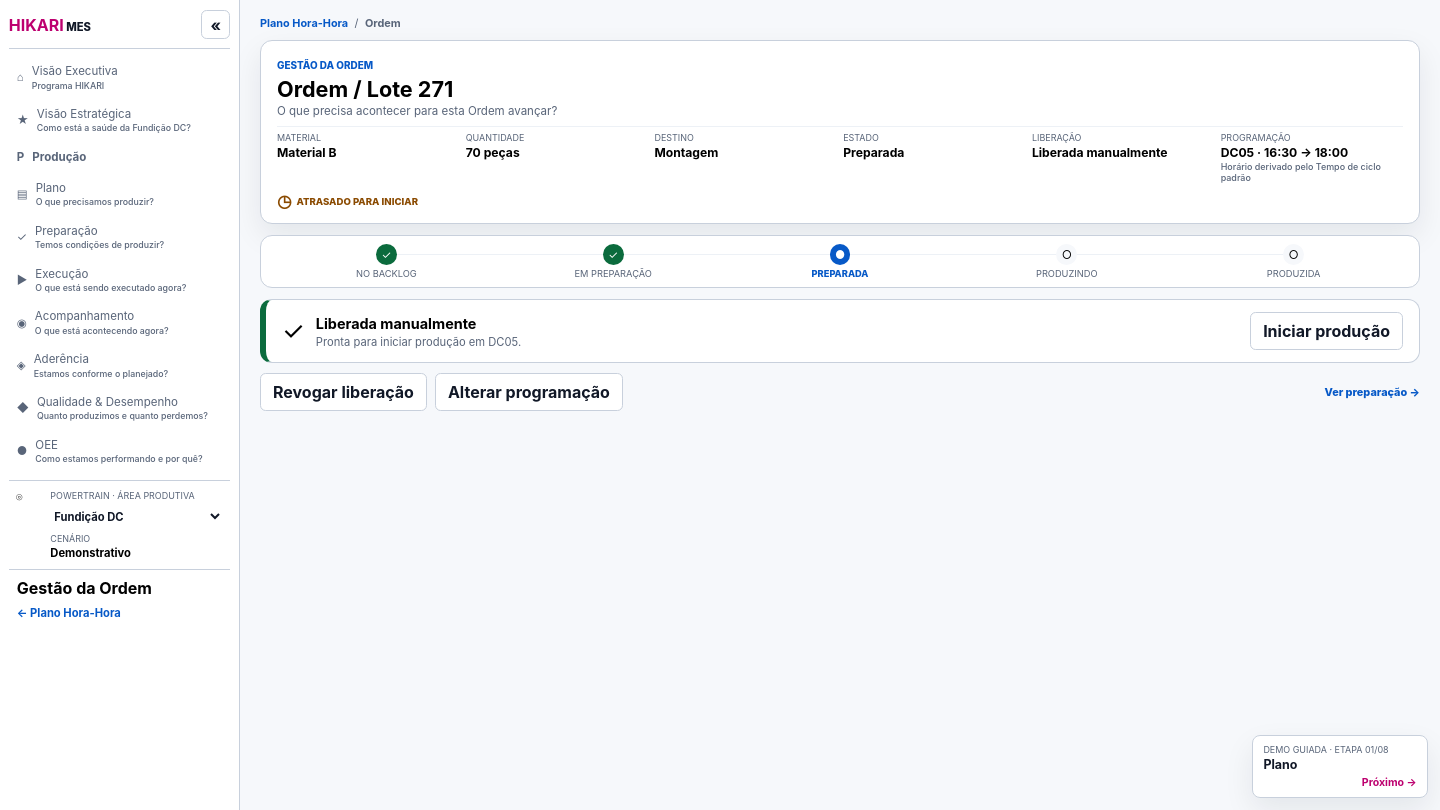
Test: Cena C: revokes the Release of Lote 271 (Released but not started), and offers no revoke action once started
Check: the text "Material" shows "Liberada manualmente", box [1032, 145, 1168, 160]
Click the button "Revogar liberação" at (343, 392), box [260, 373, 427, 411]
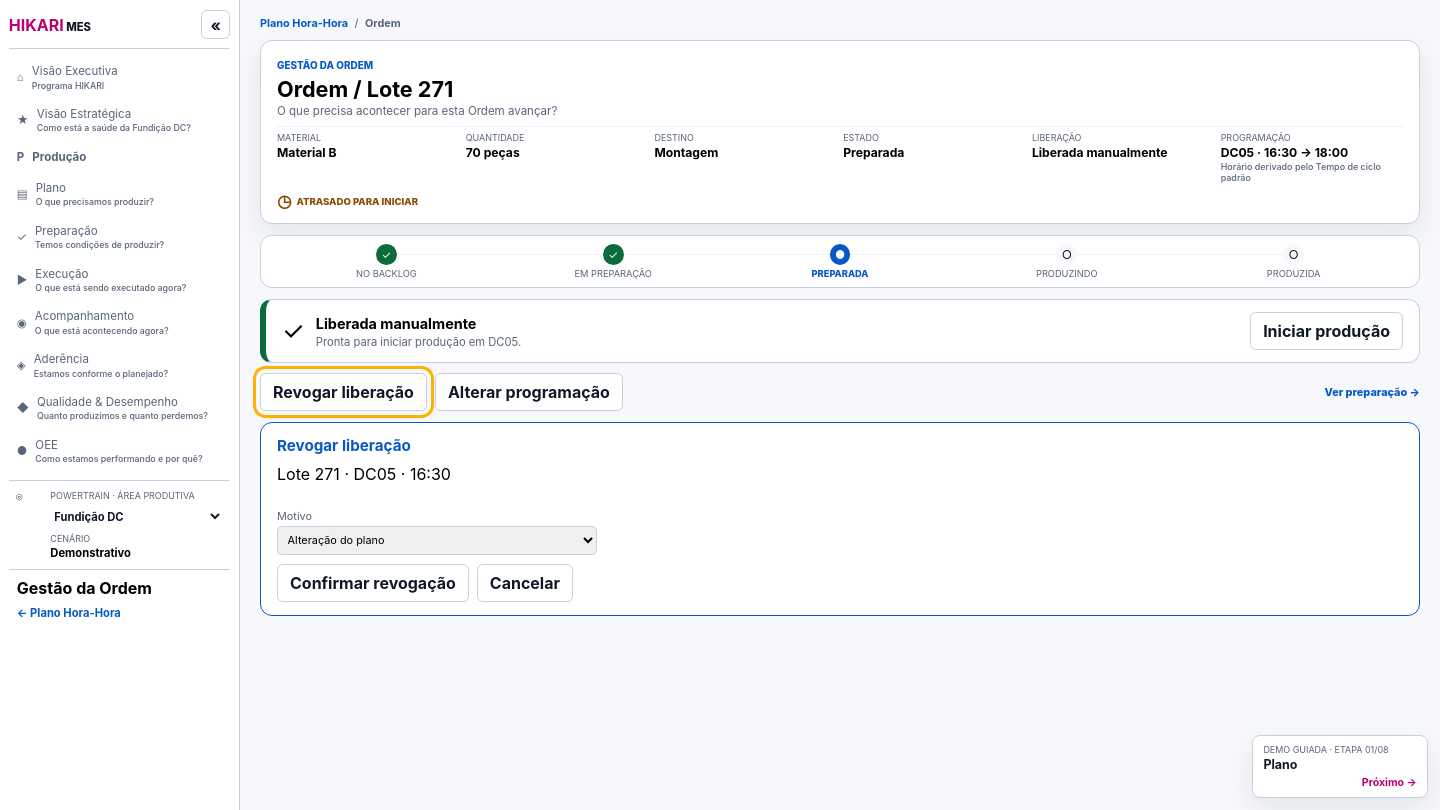
Select "Alteração do plano" in the dropdown named "Motivo da revogação" at (437, 540), box [277, 526, 597, 555]
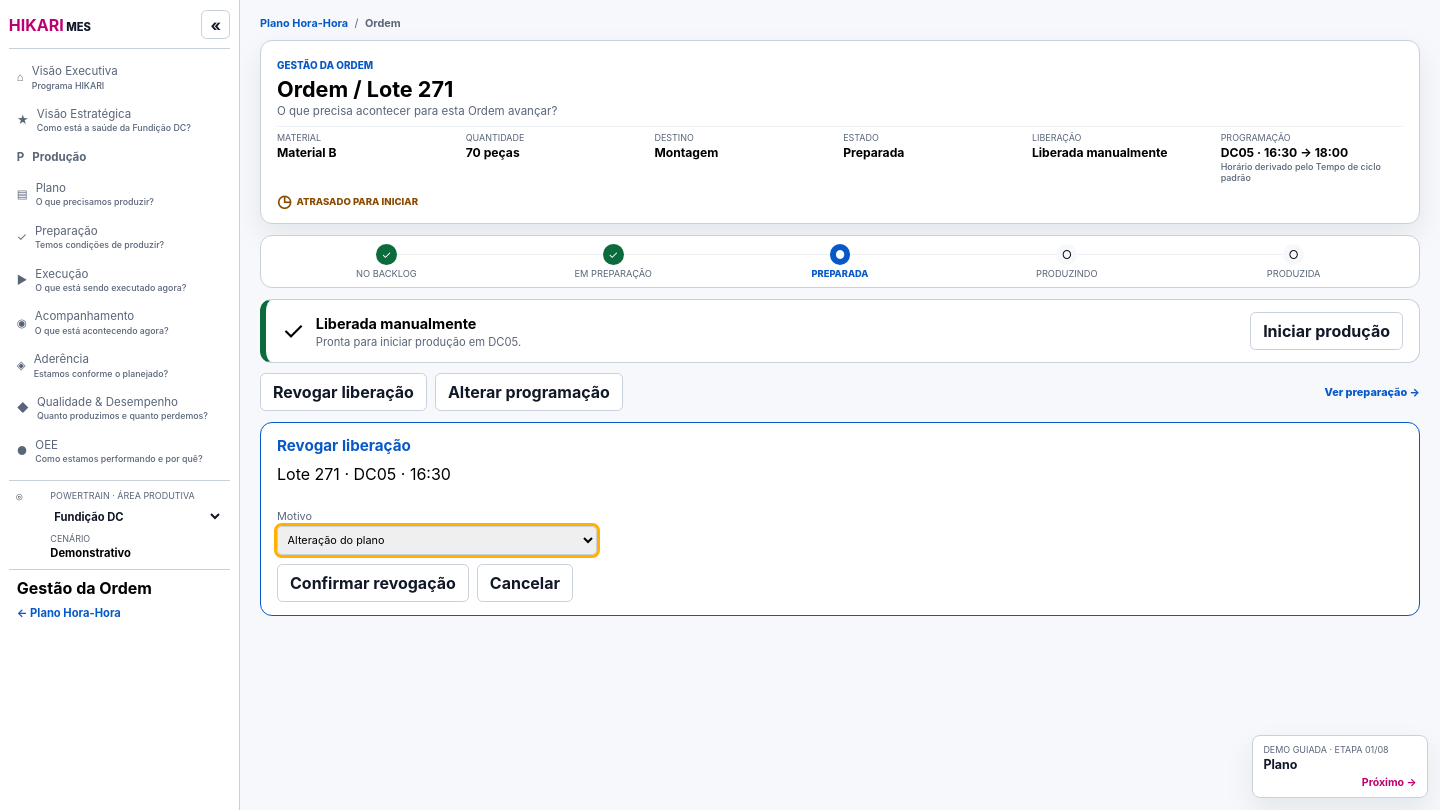
Click the button "Confirmar revogação" at (373, 583), box [277, 564, 469, 602]
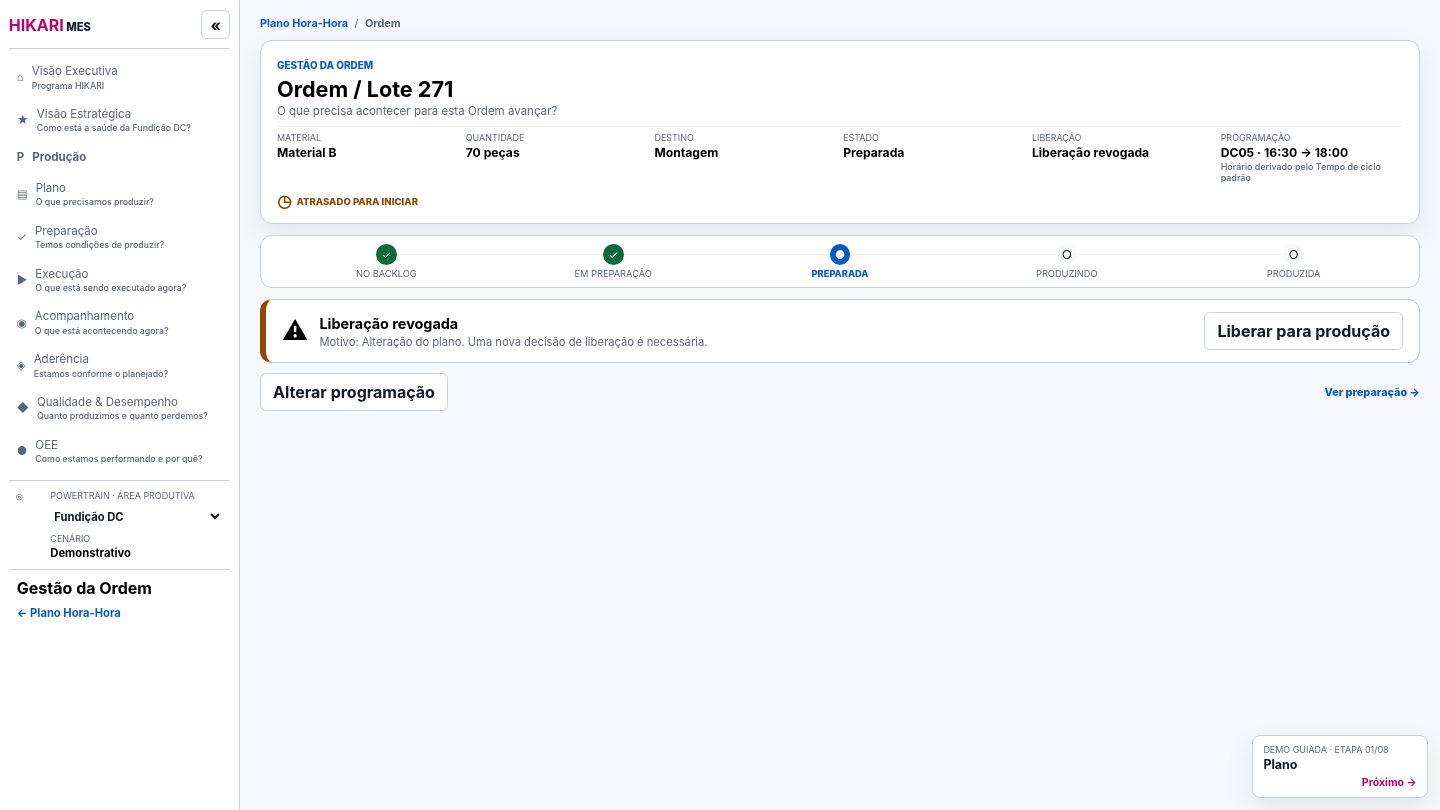
Check: the text "Material" shows "Liberação revogada", box [1032, 145, 1149, 160]
